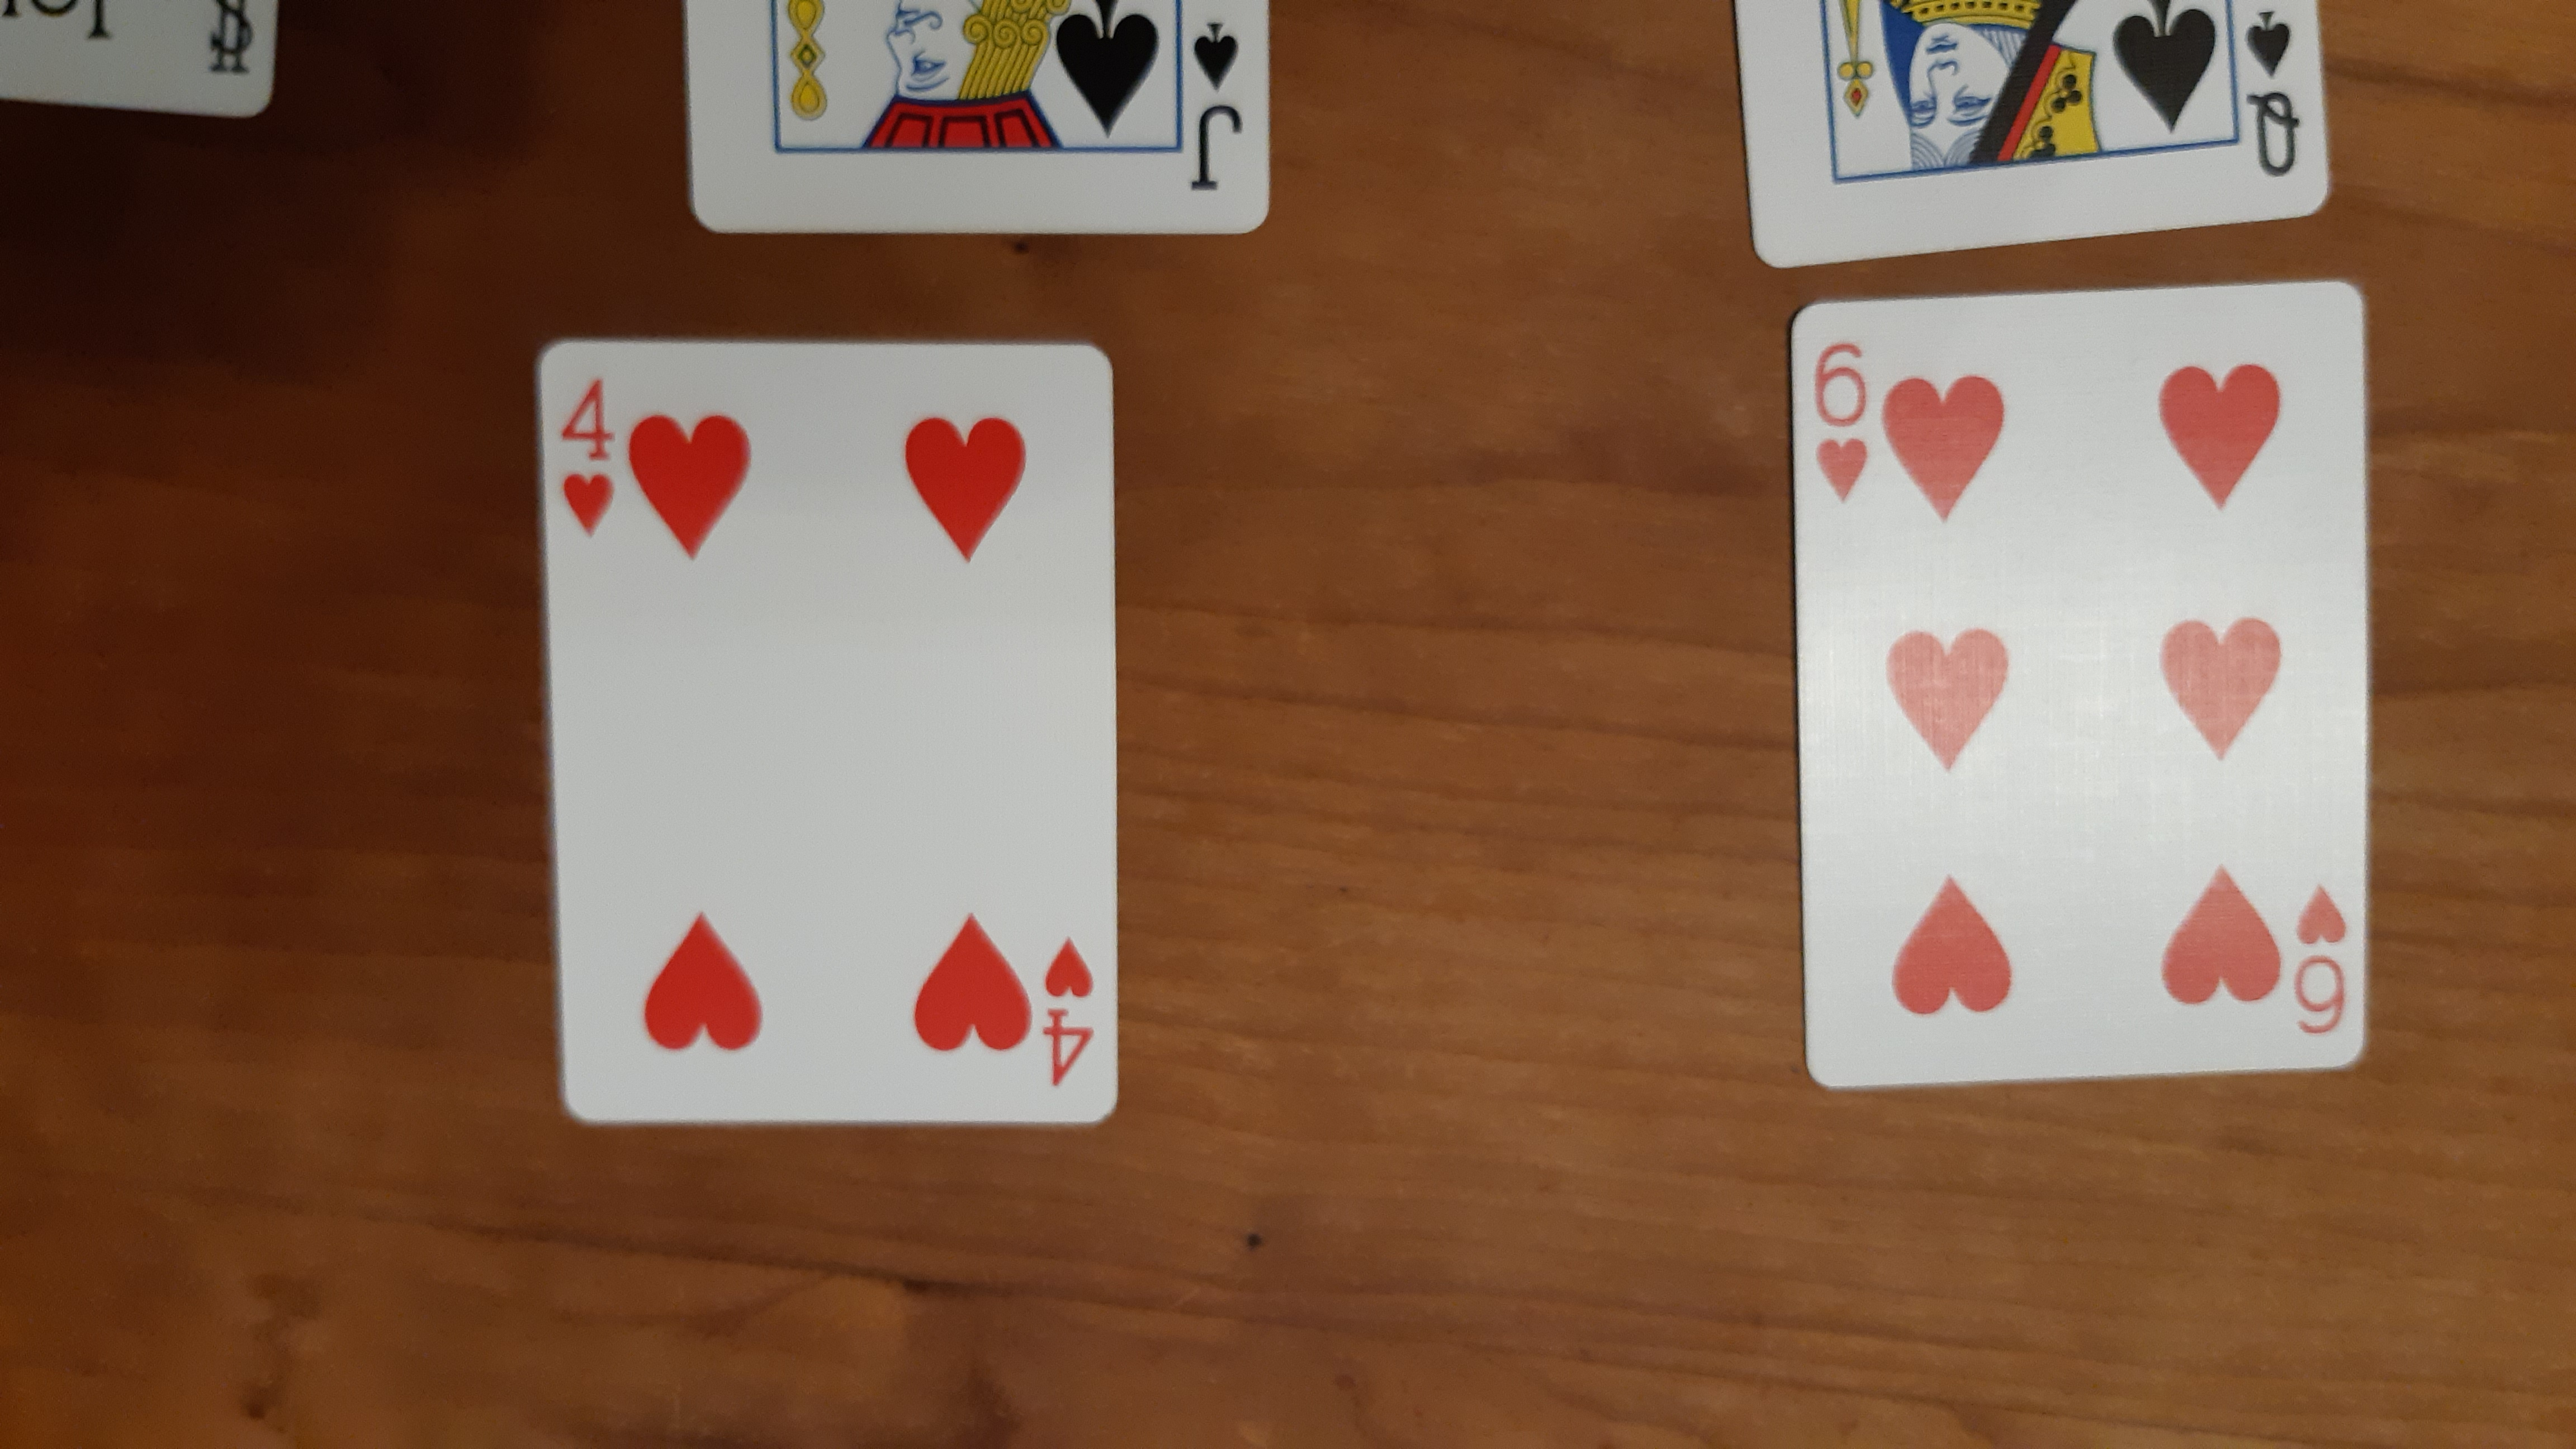Black_Spade_Jack: (1182, 16, 1253, 200)
Black_Spade_Queen: (2238, 5, 2314, 180)
Red_Heart_4: (548, 372, 625, 538), (1039, 931, 1099, 1095)
Red_Heart_6: (1808, 336, 2358, 1054)
